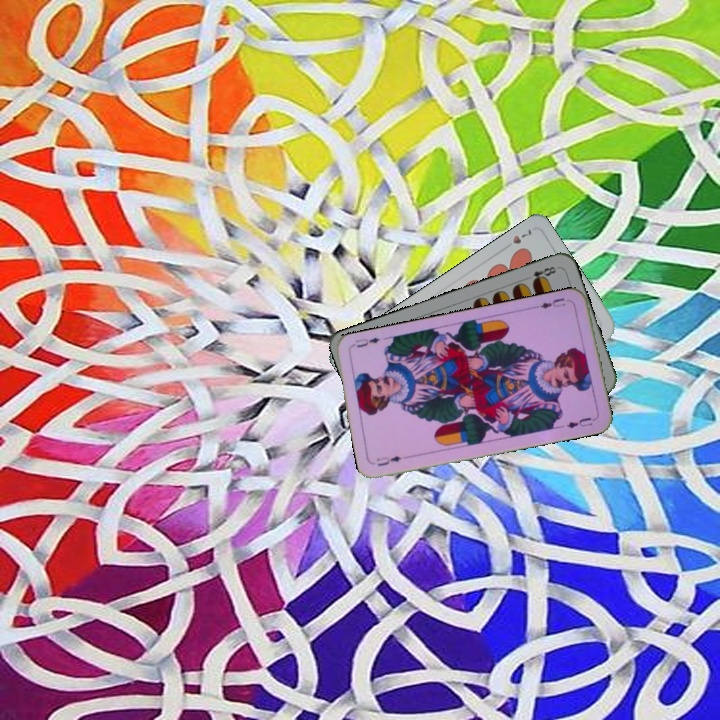E8: (528, 262, 561, 286)
EU: (373, 451, 412, 469), (532, 294, 568, 311)
H7: (509, 225, 534, 247)
